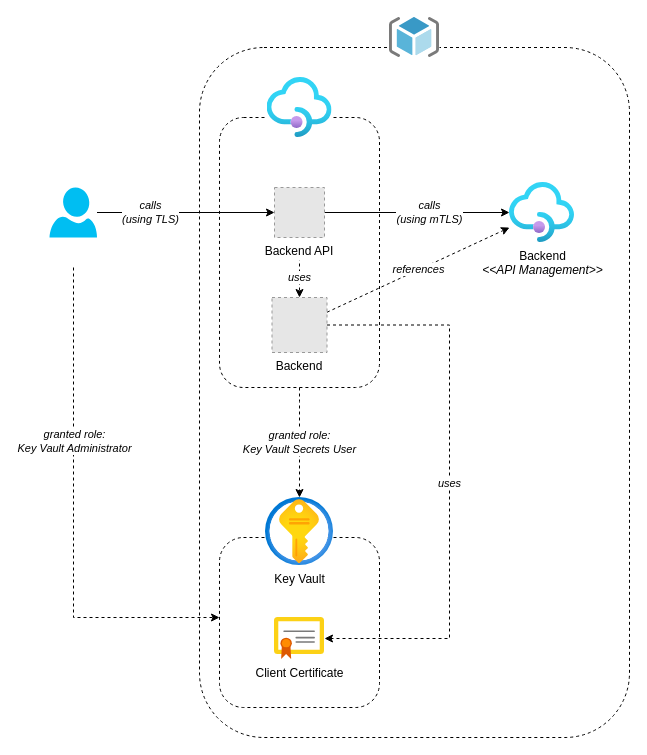
This 647x755 diagram has some shape labels left out. Grey dashed boxes stand in for pictures. Here are the shapes that lost their labels. From the top down, the centre of each, then its label:
the point at 414,37: Resource group
the point at 299,107: Client <<API Management>>
the point at 72,212: You
